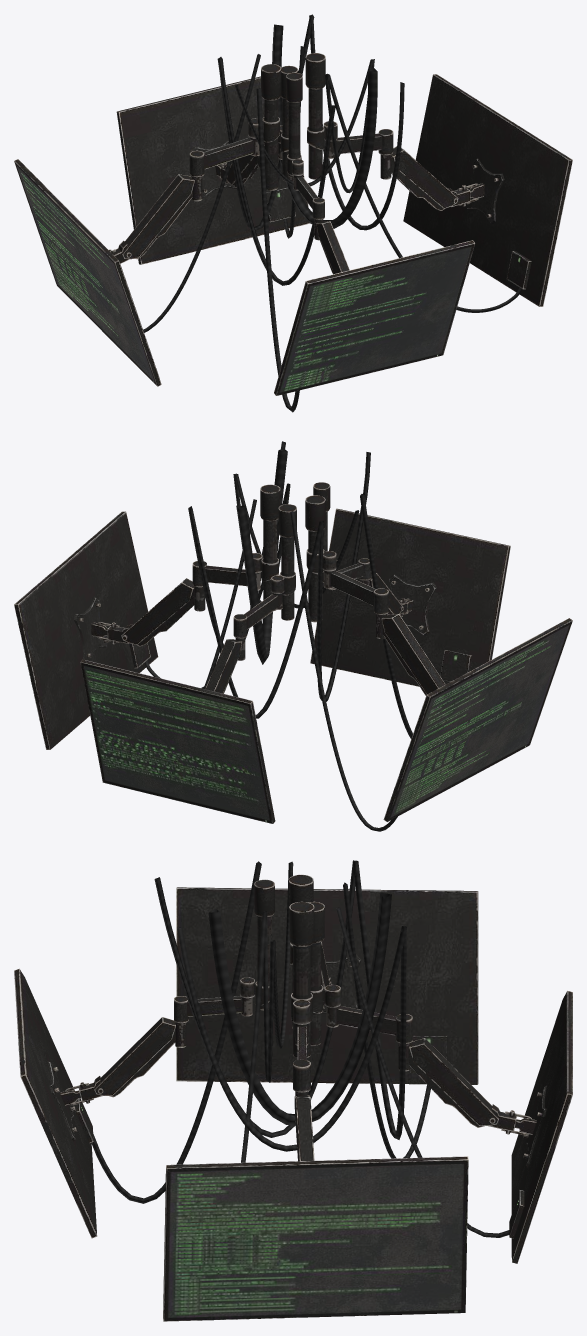
The model's file is cyberpunk_screens.gltf.
3 renders of one model, top to bottom at view 1: azimuth 30°, elevation 25°; view 2: azimuth 150°, elevation 25°; view 3: azimuth 270°, elevation 25°, orthographic. The views are drawn at different scales.
Visible parts, largest first — view 1: screens_part.014, screens_part.017, screens_part.016, screens_part.015, screens_part.035, screens_part.018, screens_part.010, screens_part.036, screens_part.003, screens_part, screens_part.037, screens_part.007 (+9 smaller); view 2: screens_part.017, screens_part.016, screens_part.014, screens_part.015, screens_part.035, screens_part.010, screens_part.003, screens_part.036, screens_part.033, screens_part, screens_part.026, screens_part.007 (+8 smaller); view 3: screens_part.014, screens_part.015, screens_part.017, screens_part.035, screens_part.016, screens_part.036, screens_part.018, screens_part.029, screens_part.022, screens_part.037, screens_part, screens_part.033 (+10 smaller).
Part boxes in pixels (box(x1,y1,x2,y2)): screens_part.014: box(403, 74, 572, 306); screens_part.017: box(274, 240, 475, 395); screens_part.016: box(116, 76, 309, 264); screens_part.015: box(14, 159, 161, 386); screens_part.035: box(217, 14, 404, 285); screens_part.018: box(234, 59, 521, 312); screens_part.010: box(122, 174, 202, 259); screens_part.036: box(272, 24, 377, 228); screens_part.003: box(380, 146, 458, 210); screens_part: box(305, 53, 325, 179); screens_part.037: box(256, 88, 299, 412); screens_part.007: box(261, 64, 281, 190); screens_part.017: box(310, 508, 510, 686); screens_part.016: box(80, 659, 275, 823); screens_part.014: box(14, 511, 158, 749); screens_part.015: box(383, 618, 572, 821); screens_part.035: box(188, 441, 370, 718); screens_part.010: box(376, 614, 445, 695); screens_part.003: box(121, 578, 205, 646); screens_part.036: box(236, 448, 287, 664); screens_part.033: box(290, 511, 397, 831); screens_part: box(260, 484, 280, 610); screens_part.026: box(278, 504, 296, 620); screens_part.007: box(305, 495, 325, 622); screens_part.014: box(163, 1156, 468, 1321); screens_part.015: box(176, 887, 478, 1084); screens_part.017: box(14, 968, 97, 1238); screens_part.035: box(154, 860, 406, 1151); screens_part.016: box(509, 990, 572, 1263); screens_part.036: box(208, 892, 391, 1125); screens_part.018: box(241, 861, 293, 1162); screens_part.029: box(398, 1038, 498, 1127); screens_part.022: box(94, 1017, 186, 1097); screens_part.037: box(91, 861, 261, 1203); screens_part: box(289, 901, 314, 1057); screens_part.033: box(343, 882, 430, 1158).
Size of the model in its own units: 10.99 by 6.75 by 9.46.
1 material, 1 textured.
